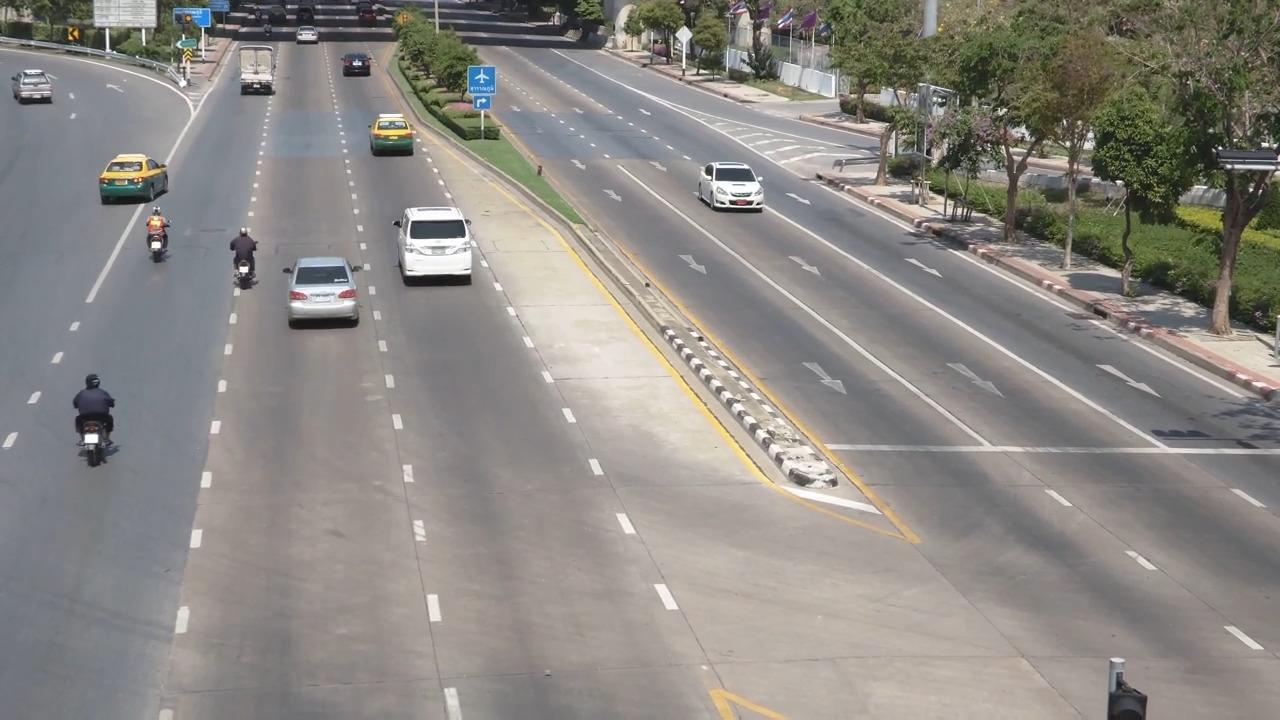CAR: (389, 196, 487, 292), (276, 249, 378, 339), (89, 138, 175, 205), (691, 149, 772, 215), (364, 99, 430, 173), (229, 33, 284, 103), (7, 53, 59, 111), (335, 44, 386, 89), (290, 20, 331, 60)
MOTOR: (65, 356, 127, 503), (212, 219, 277, 308), (123, 205, 187, 285)
